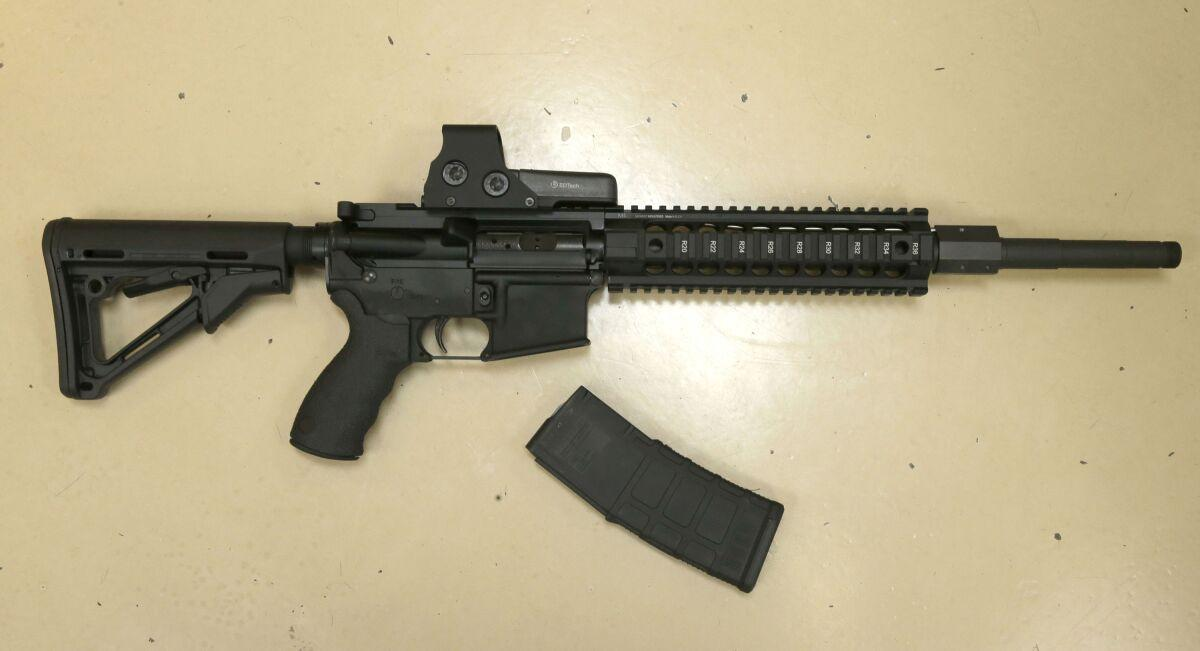larga: (38, 123, 1184, 463)
